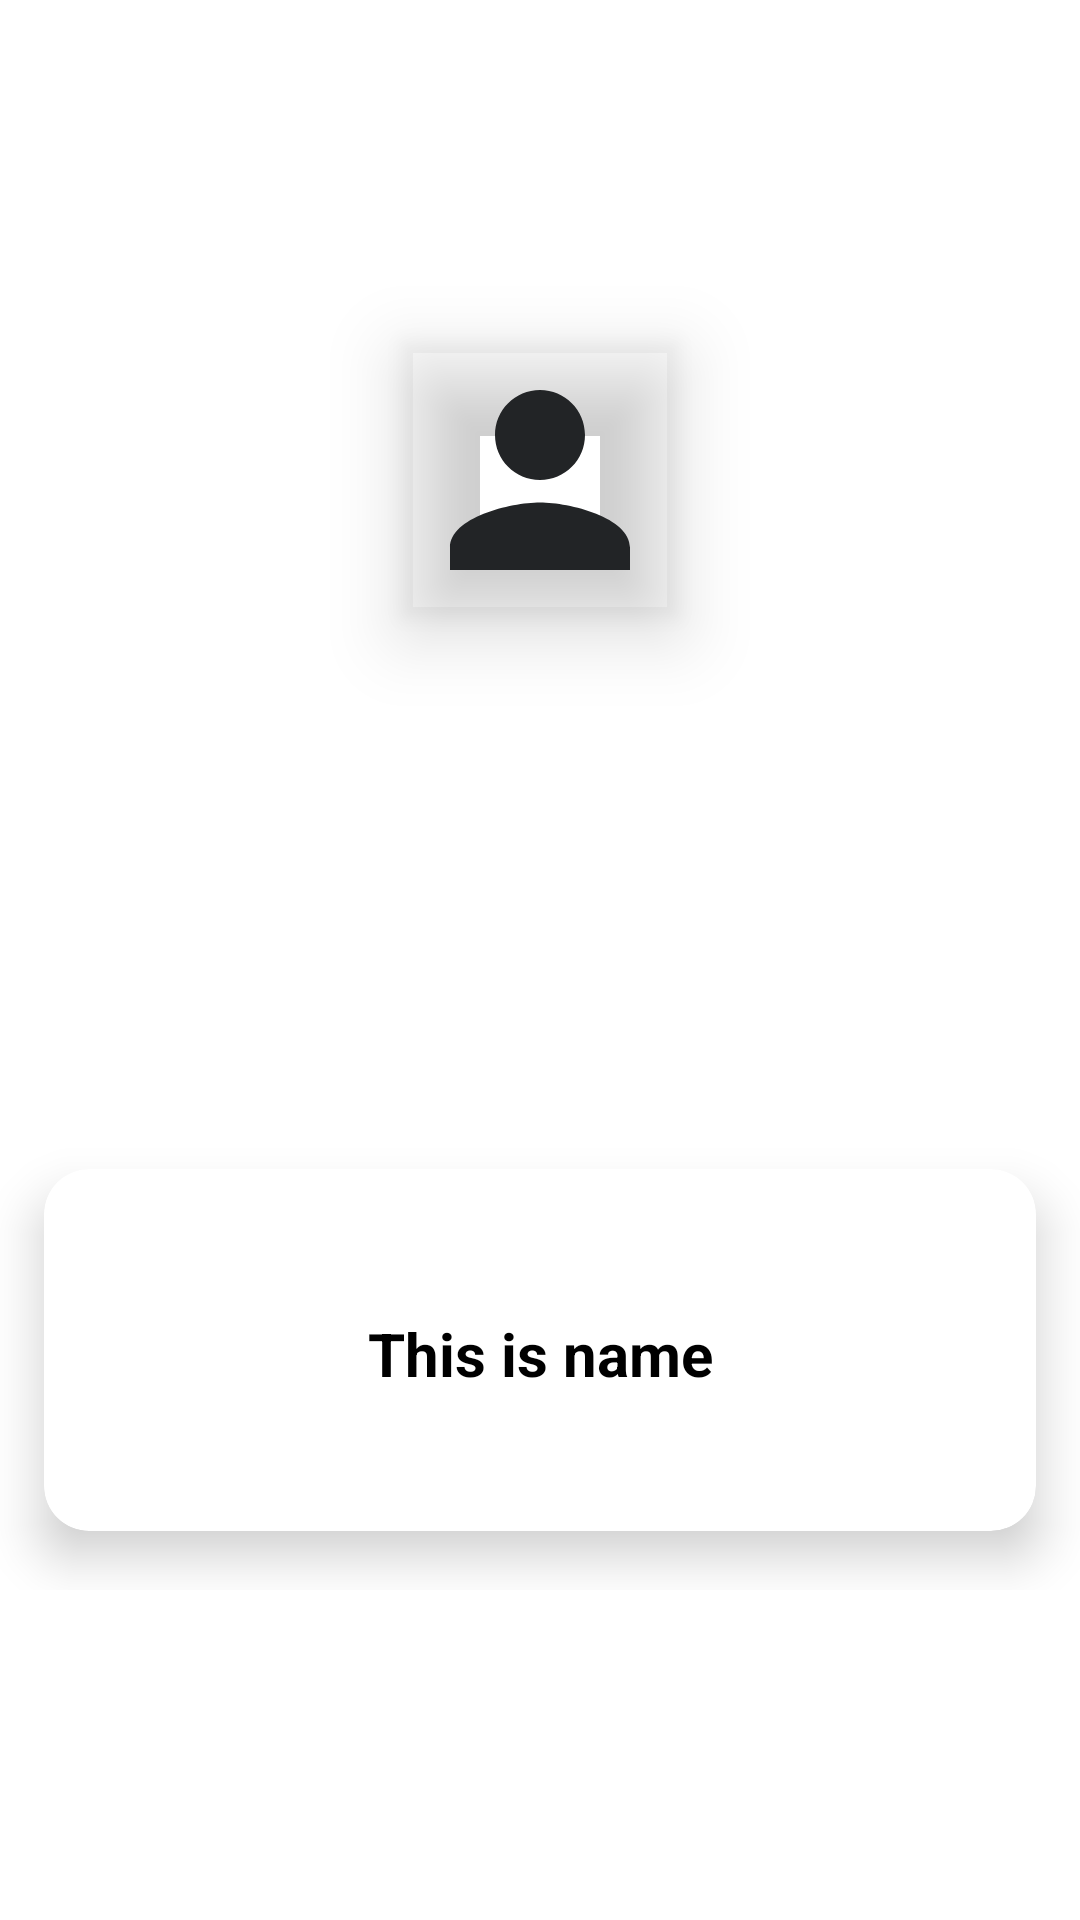

Icon bounding boxes for this 1080px×1920px phone screenshot, format (x1, y1, x2, y2):
person: (441, 390, 639, 610)
